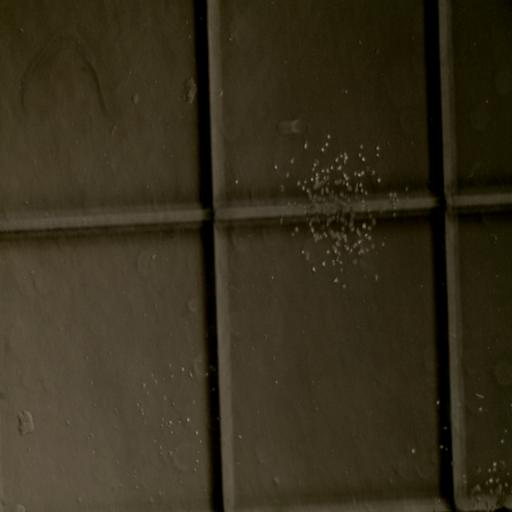CFU-GM: (296, 151, 380, 265)
